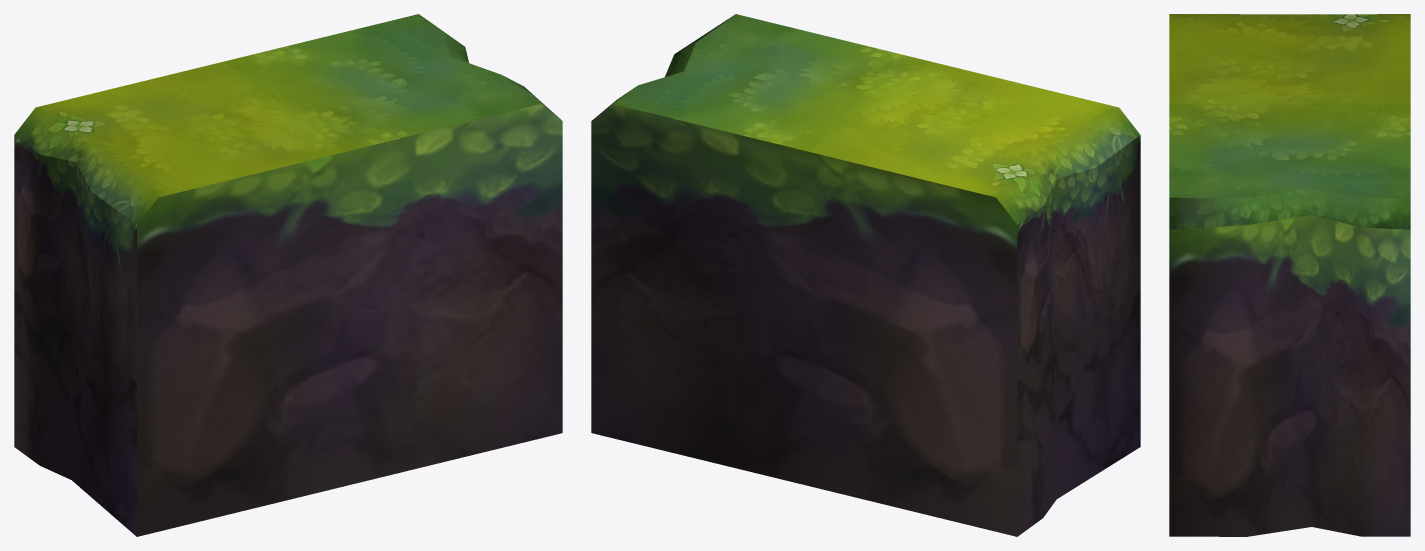
The model's file is scenes_demo_road03.FBX.
The picture shows the model from 3 angles, left to right: view 1: azimuth 30°, elevation 25°; view 2: azimuth 150°, elevation 25°; view 3: azimuth 270°, elevation 25°; orthographic projection.
Visible parts, largest first — view 1: scenes_demo_road03; view 2: scenes_demo_road03; view 3: scenes_demo_road03.
Part boxes in pixels (x1,y1,x2,y2): scenes_demo_road03: [14, 14, 562, 536]; scenes_demo_road03: [591, 14, 1140, 536]; scenes_demo_road03: [1169, 14, 1410, 536].
Bounding box in the file's own units: 802 × 600 × 400.
